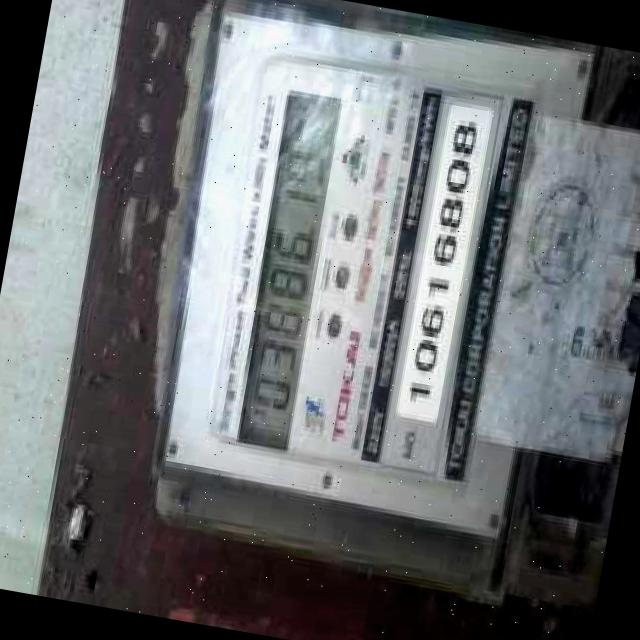LCD: (220, 83, 354, 462)
